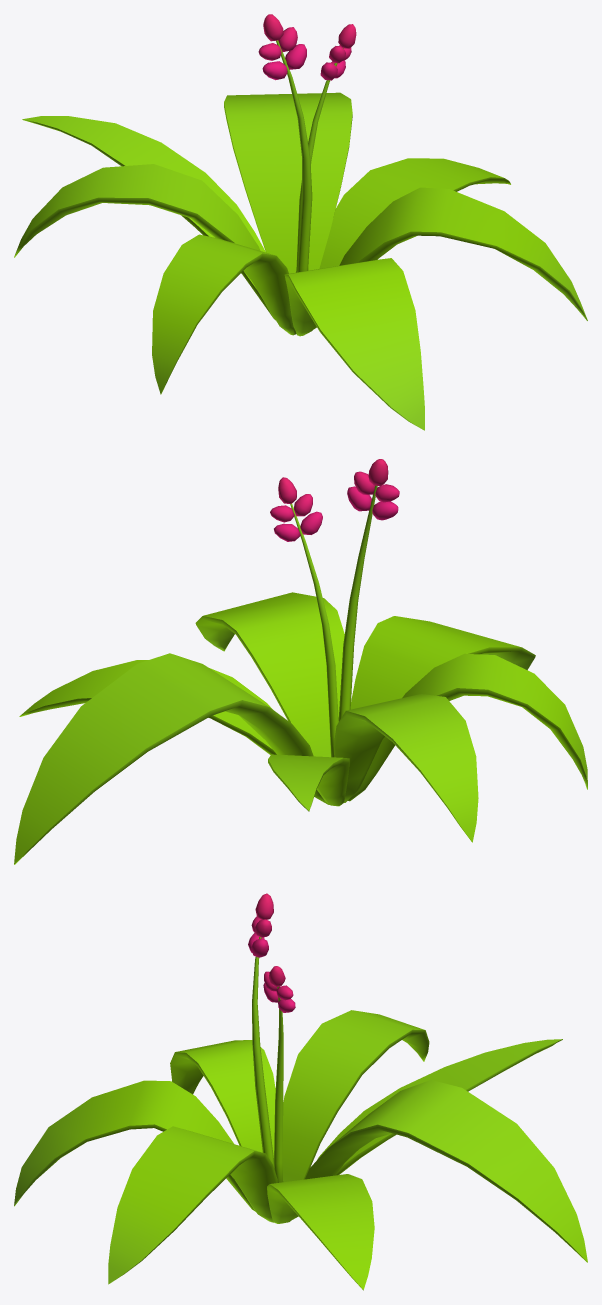
Rendered from Grass_03.fbx.
The picture shows the model from 3 angles, top to bottom: view 1: azimuth 30°, elevation 25°; view 2: azimuth 150°, elevation 25°; view 3: azimuth 270°, elevation 25°; orthographic projection. The views are drawn at different scales.
Visible parts, largest first — view 1: Grass_03; view 2: Grass_03; view 3: Grass_03.
Boxes of the visible parts, left/top/right/bottom form: Grass_03: left=14, top=14, right=587, bottom=430; Grass_03: left=14, top=459, right=587, bottom=864; Grass_03: left=14, top=893, right=587, bottom=1290.
Bounding box in the file's own units: 109 × 74.43 × 124.
